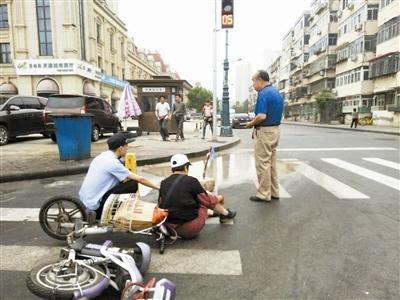falling: (151, 147, 241, 237)
